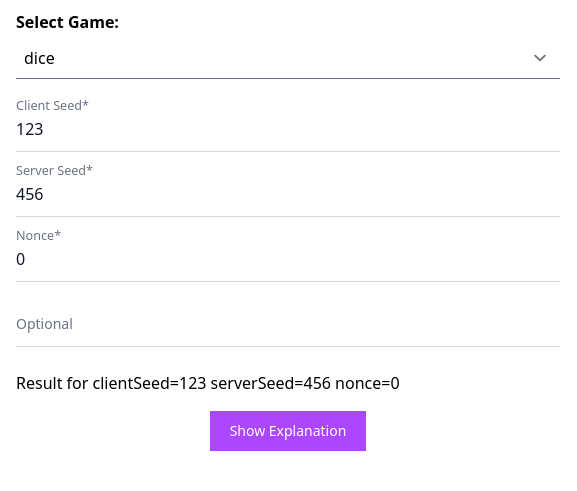
Test case: VerifierForm Component › result is shown when all required fields are filled and explanation is toggleable
Replace the text in the field labelled "Client Seed*" with "aaa" at (288, 130), box [16, 107, 560, 152]
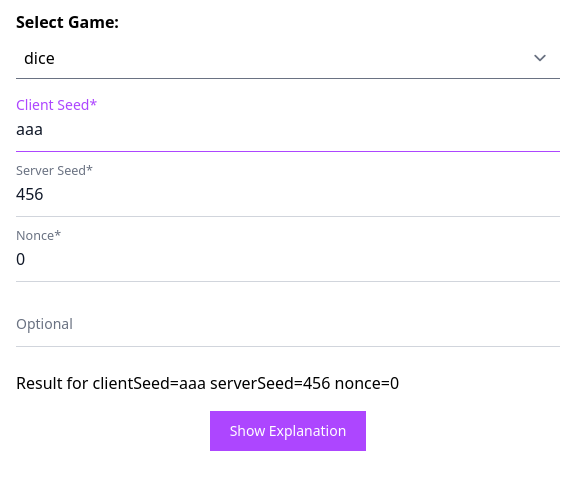
Replace the text in the field labelled "Server Seed*" with "bbb" at (288, 194), box [16, 172, 560, 217]
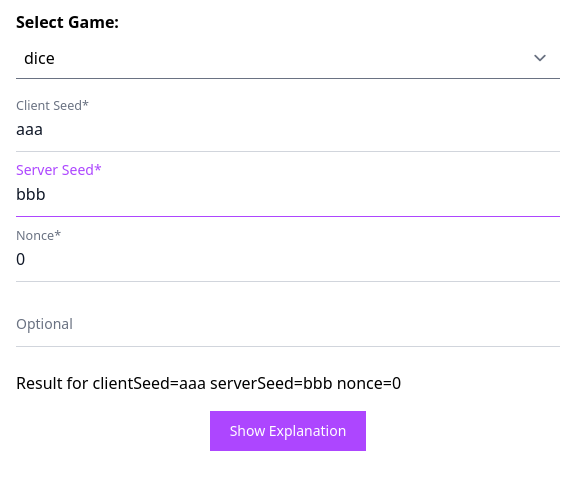
Replace the text in the number field labelled "Nonce*" with "123" at (288, 260), box [16, 237, 560, 282]
Wait 350 ms
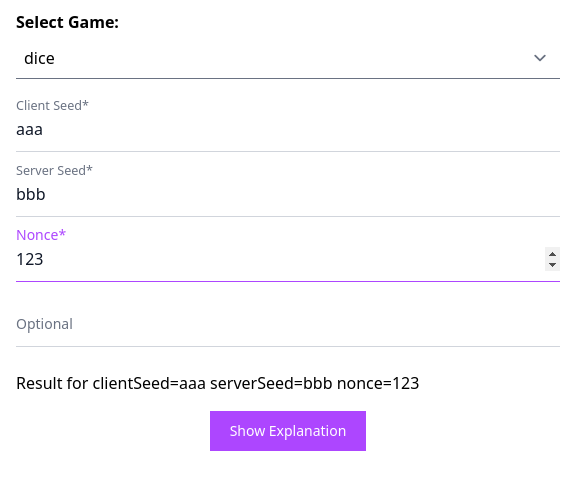
Expected: the text "Explanation for" is not shown
Now the text "Result for clientSeed=aaa serverSeed=bbb nonce=123" is shown, box [16, 372, 419, 394]
Click the button "Show Explanation".
click(288, 431)  # box [210, 411, 366, 451]
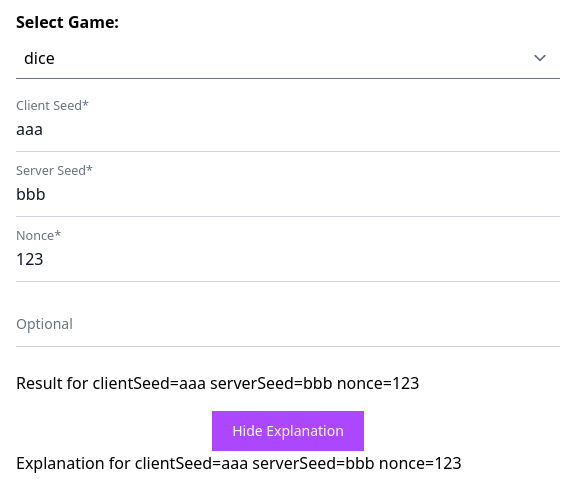
Now the button "Show Explanation" reads "Hide Explanation", box [212, 411, 364, 451]
Now the text "Explanation for clientSeed=aaa serverSeed=bbb nonce=123" is shown, box [16, 452, 462, 474]
